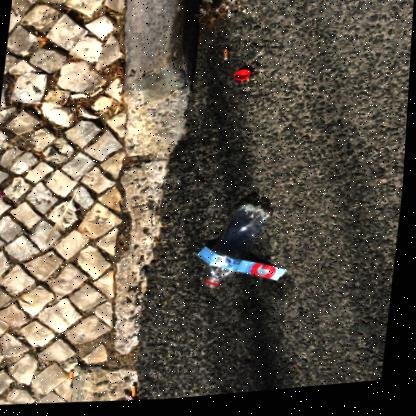Paper: (199, 248, 290, 285)
Plastic: (206, 207, 273, 291)
Waste: (234, 73, 250, 84), (63, 94, 70, 105), (135, 387, 141, 398), (73, 371, 77, 382), (224, 52, 227, 64)
